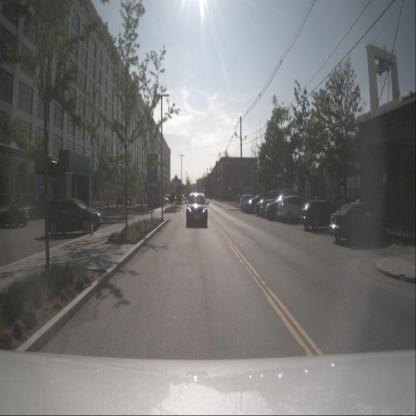cone: (90, 221, 94, 236)
